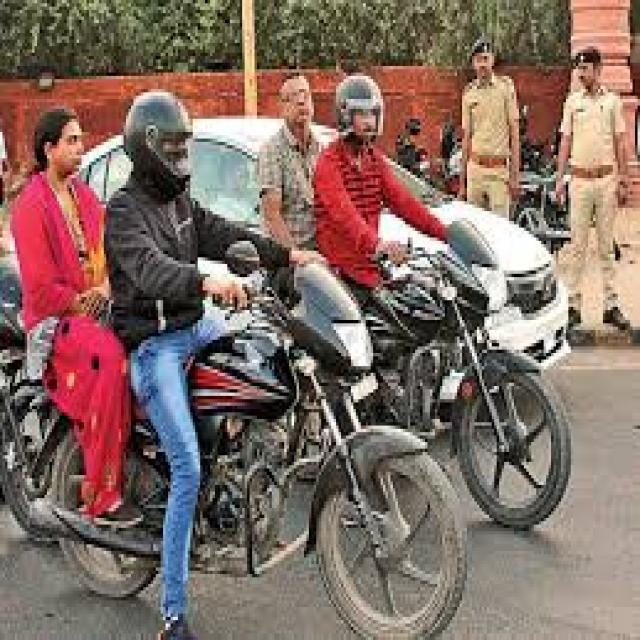Helmet: (121, 92, 192, 204)
